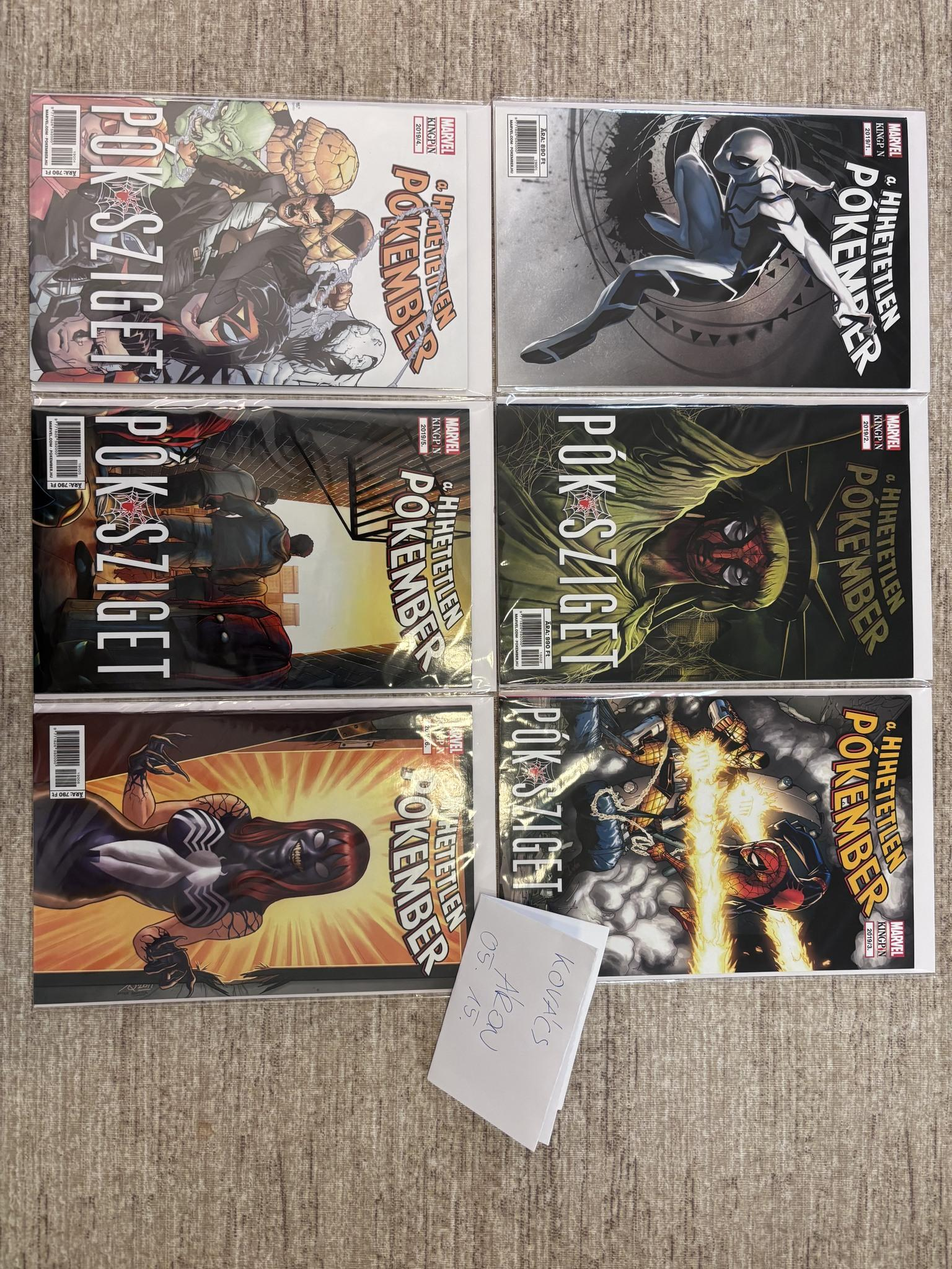comic: (31, 696, 496, 1004), (33, 394, 495, 697), (28, 93, 492, 394), (495, 394, 932, 691), (497, 686, 936, 981), (495, 101, 927, 392)
